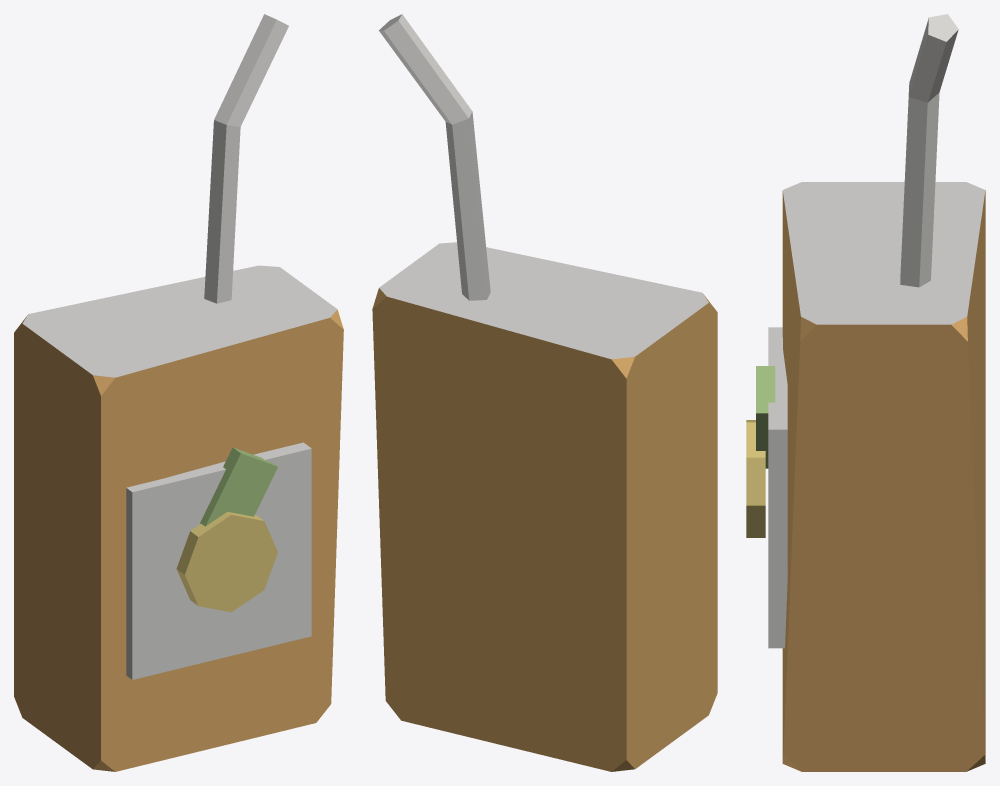
File: litter_drink_carton.glb
The picture shows the model from 3 angles, left to right: view 1: azimuth 30°, elevation 25°; view 2: azimuth 150°, elevation 25°; view 3: azimuth 270°, elevation 25°; orthographic projection. The views are drawn at different scales.
Parts seen in each view (by area): view 1: litter_drink_carton; view 2: litter_drink_carton; view 3: litter_drink_carton.
Boxes of the visible parts, x1=… form: litter_drink_carton: x1=14, y1=14, x2=343, y2=771; litter_drink_carton: x1=372, y1=14, x2=717, y2=771; litter_drink_carton: x1=746, y1=14, x2=985, y2=771.
Size of the model in its own units: 0.0706 by 0.1738 by 0.0495.
